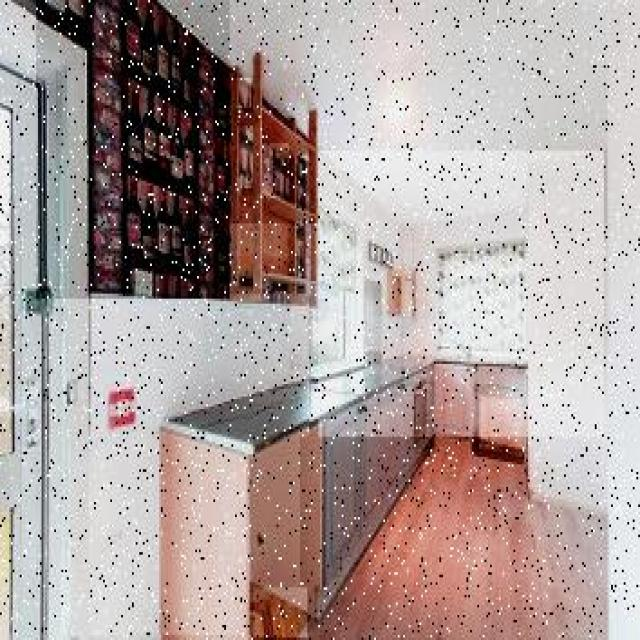Wall: (320, 152, 604, 512), (165, 1, 607, 223), (90, 296, 309, 635), (301, 437, 604, 639), (38, 0, 230, 299), (253, 589, 307, 637), (263, 145, 289, 198), (241, 128, 253, 188), (239, 79, 251, 108)
